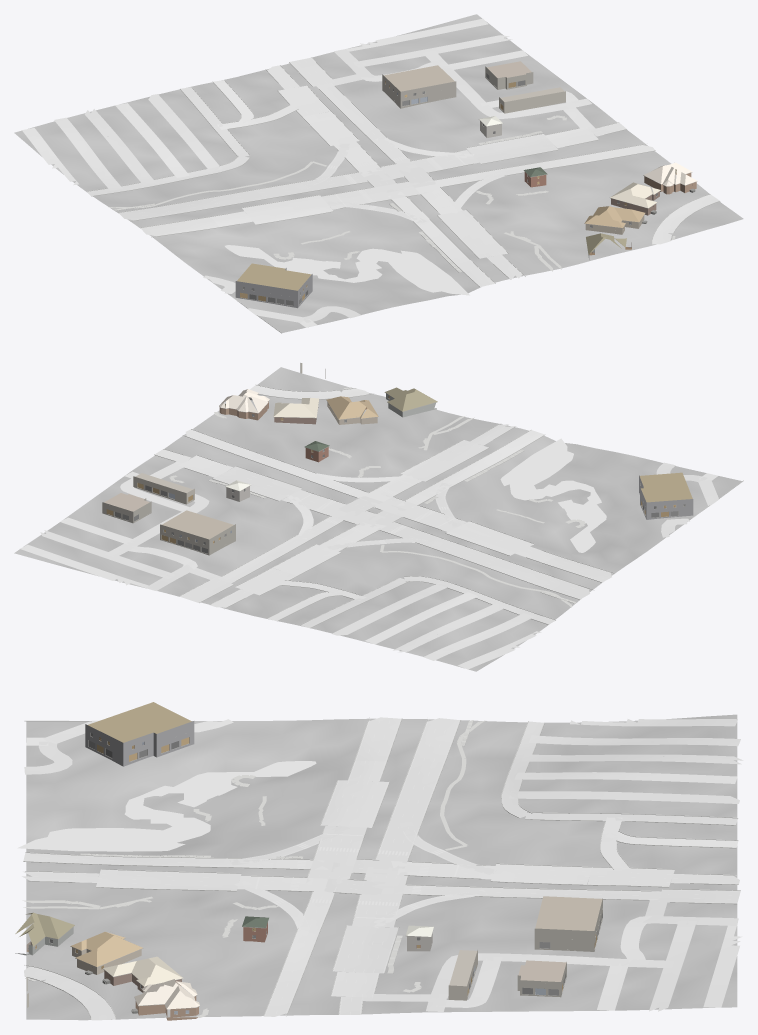
The picture shows the model from 3 angles, top to bottom: view 1: azimuth 30°, elevation 25°; view 2: azimuth 150°, elevation 25°; view 3: azimuth 270°, elevation 25°; orthographic projection. The views are drawn at different scales.
Visible parts, largest first — view 1: ground, asphalt, concrete, water, curb, wall_com, roof_flat, roof, walk, mark_w, wall, mark_y; view 2: ground, asphalt, concrete, water, curb, roof, roof_flat, wall_com, walk, mark_w, wall, wall_stucco (+3 smaller); view 3: ground, asphalt, concrete, water, roof_flat, roof, curb, wall_com, walk, mark_w, wall, mark_y (+3 smaller).
Boxes of the visible parts, box(x1,y1,x2,y2) form: ground: box(14, 14, 743, 332); asphalt: box(119, 57, 654, 286); concrete: box(22, 18, 719, 327); water: box(225, 245, 469, 295); curb: box(87, 57, 720, 333); wall_com: box(235, 66, 565, 308); roof_flat: box(237, 61, 564, 290); roof: box(479, 116, 696, 254); walk: box(108, 115, 675, 272); mark_w: box(121, 58, 654, 286); wall: box(524, 172, 696, 215); mark_y: box(133, 62, 644, 283); ground: box(14, 367, 742, 671); asphalt: box(155, 424, 611, 607); concrete: box(20, 385, 719, 669); water: box(500, 438, 606, 552); curb: box(154, 384, 743, 628); roof: box(219, 387, 437, 491); roof_flat: box(104, 472, 692, 539); wall_com: box(102, 475, 693, 555); walk: box(169, 387, 585, 607); mark_w: box(154, 424, 608, 608); wall: box(219, 401, 328, 462); wall_stucco: box(300, 363, 436, 424); ground: box(26, 714, 737, 1020); asphalt: box(22, 717, 740, 1016); concrete: box(24, 719, 743, 1020); water: box(17, 761, 316, 851); roof_flat: box(88, 702, 602, 986); roof: box(15, 912, 433, 1009); curb: box(23, 717, 740, 1019); wall_com: box(85, 721, 602, 1000); walk: box(22, 720, 485, 1017); mark_w: box(25, 718, 736, 1015); wall: box(104, 922, 267, 1020); mark_y: box(23, 719, 737, 1014).
Bounding box in the file's own units: 254 × 14.89 × 257.
